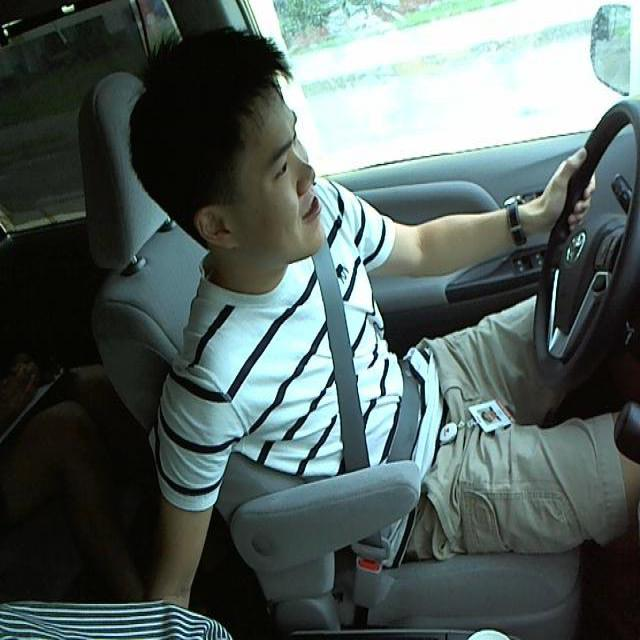seatbelt: (302, 255, 421, 552)
